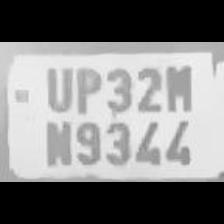2: (132, 62, 162, 112)
3: (101, 62, 133, 112), (102, 116, 132, 166)
4: (130, 114, 162, 166), (161, 114, 193, 166)
9: (72, 118, 100, 166)
M: (162, 60, 194, 112)
N: (39, 116, 71, 166)
P: (71, 62, 102, 114)
U: (41, 63, 73, 115)
